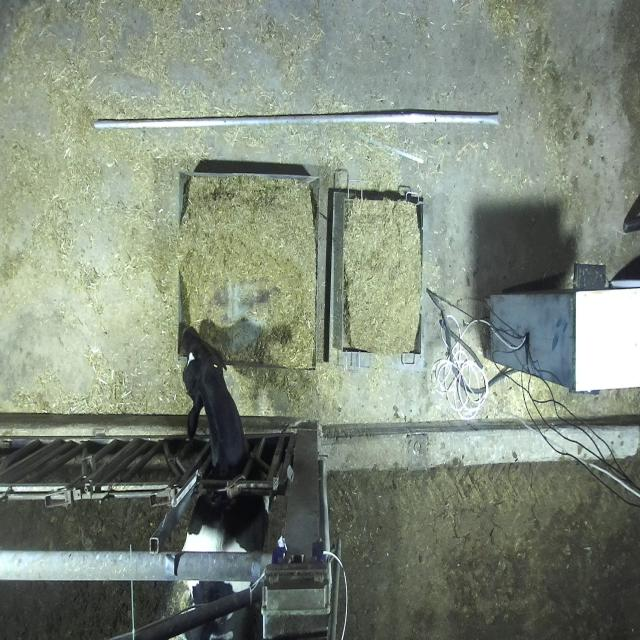cow: (179, 327, 227, 442)
